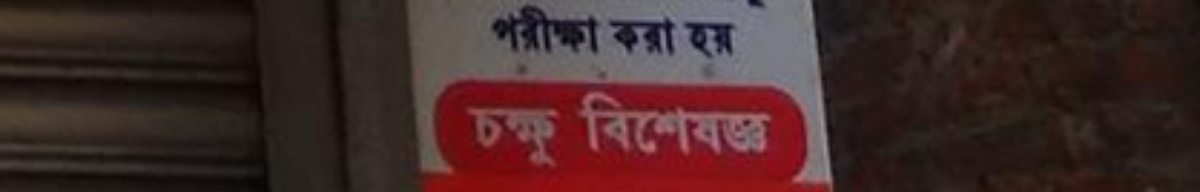text: (593, 89, 608, 158), (609, 89, 624, 158), (625, 89, 640, 158), (641, 89, 656, 158), (657, 89, 672, 158), (673, 89, 688, 158), (689, 89, 704, 158), (705, 89, 720, 158), (721, 89, 736, 158), (737, 89, 752, 158), (753, 89, 768, 158), (481, 104, 496, 170), (497, 104, 512, 170), (513, 104, 528, 170), (529, 104, 544, 170), (545, 104, 560, 170), (578, 89, 592, 158), (468, 104, 480, 170), (497, 6, 512, 52), (513, 6, 528, 52), (529, 6, 544, 52), (545, 6, 560, 52), (561, 6, 576, 52), (577, 6, 592, 52), (609, 18, 624, 58), (625, 18, 640, 58), (641, 18, 656, 58), (657, 18, 672, 58), (689, 21, 704, 58), (705, 21, 720, 58), (721, 21, 736, 58), (593, 6, 601, 52), (489, 6, 496, 52), (769, 89, 773, 158), (673, 18, 675, 58), (687, 21, 688, 58), (737, 21, 738, 58)
